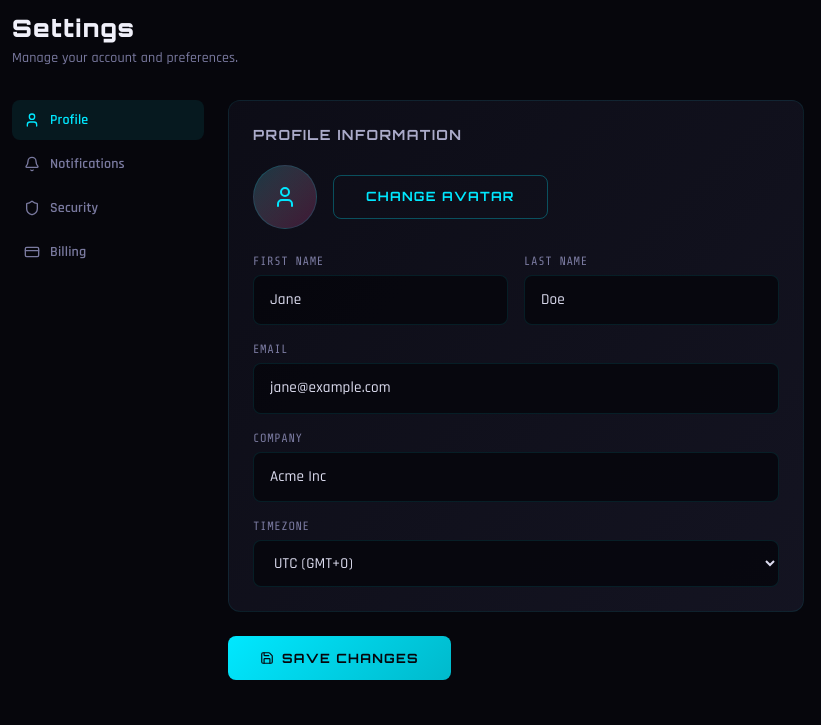
Test: Settings › switches to billing tab
Click the button "Billing" at (108, 252), box 12,232 -> 204,272
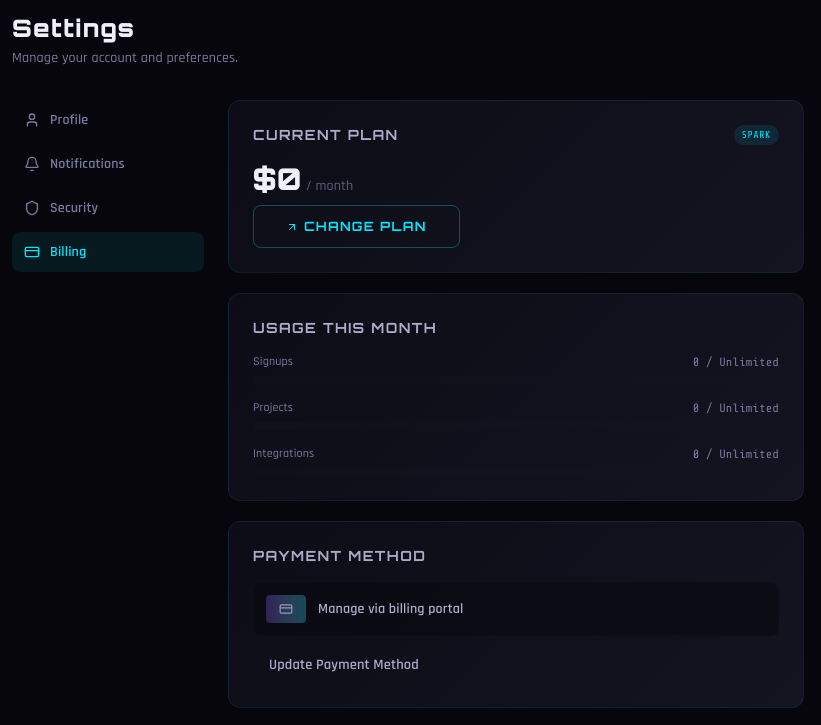
expect the heading "Current Plan" is shown: met, box 253,125 -> 399,145
expect the button "Change Plan" is shown: met, box 253,205 -> 460,248
